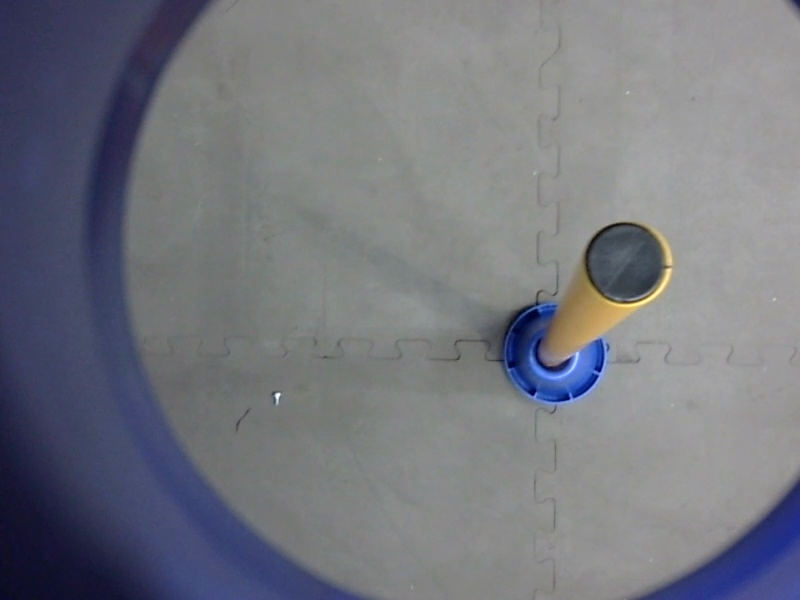tip: (575, 214, 680, 313)
